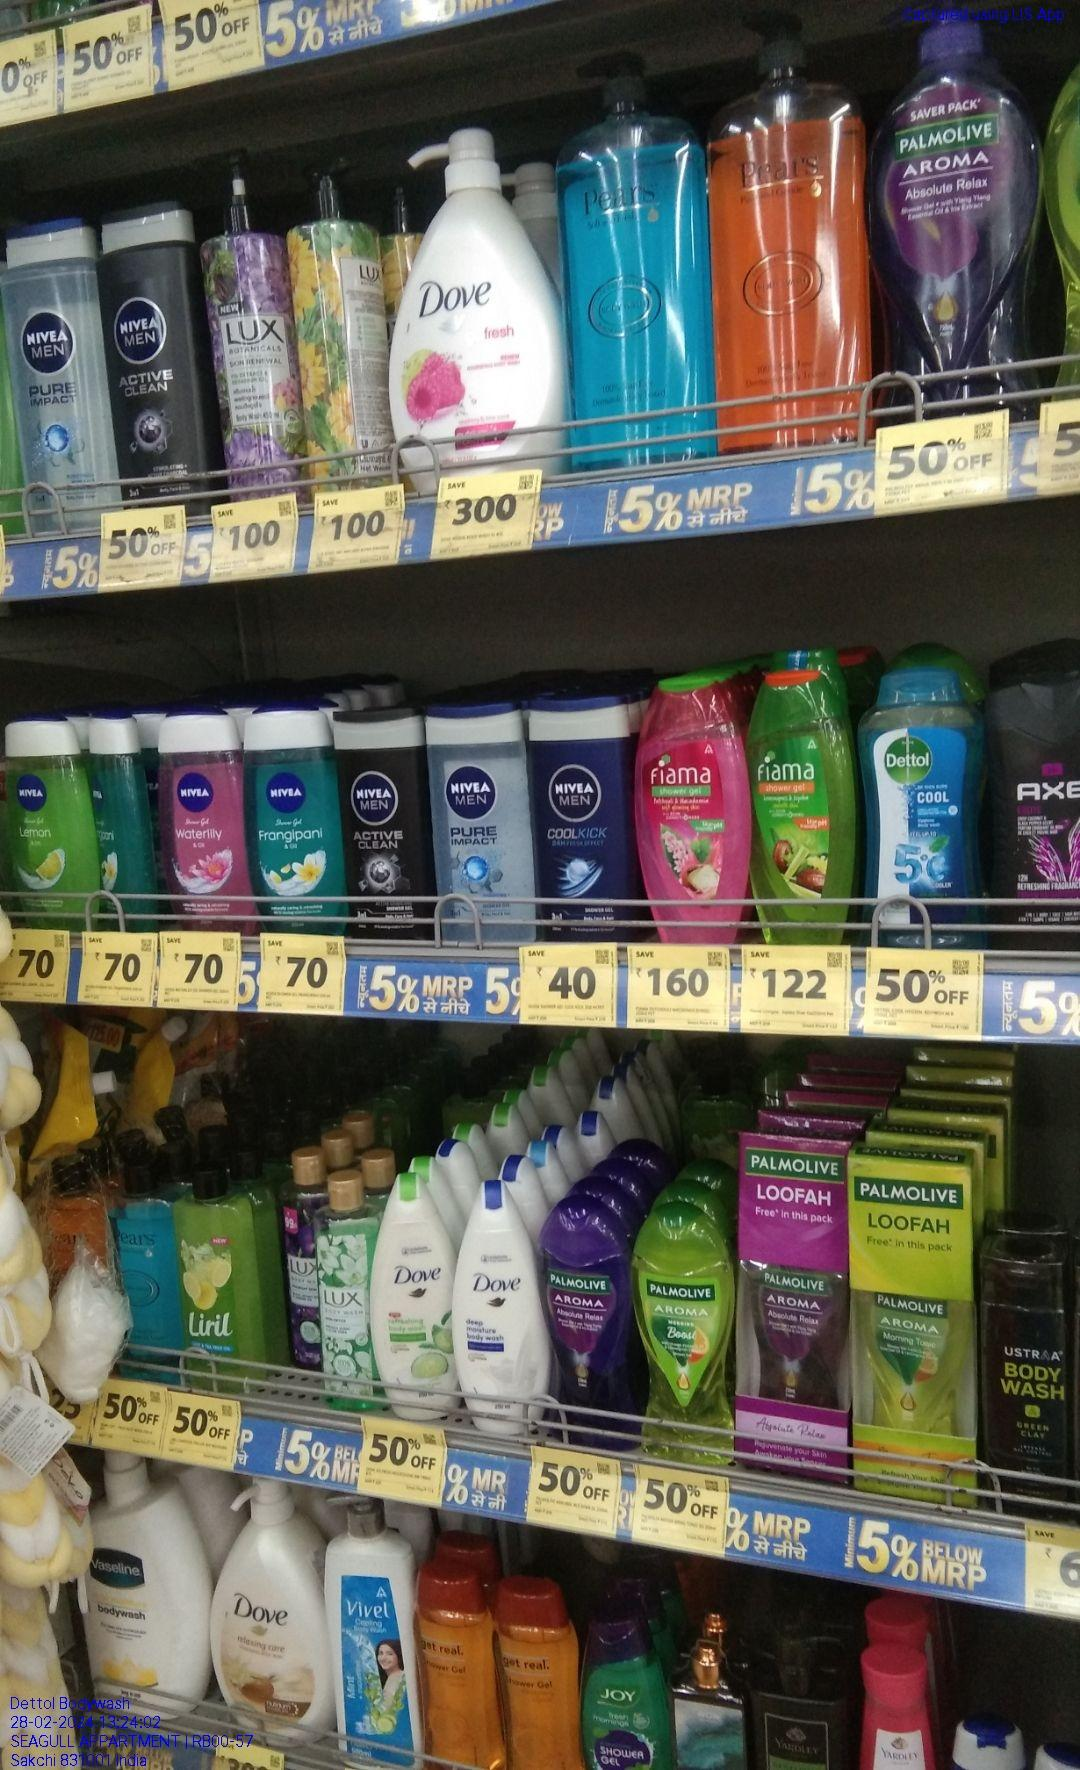Dettol_Bodywash_Cool: (864, 662, 976, 951)
Dove_Deep_Moisture_Body_Wash_250ML: (455, 1178, 534, 1445)
Dove_Refreshing_Body_Wash_250ML: (379, 1175, 451, 1424)
Fiama_Shower_Gel_Lemongrass_and_Jojoba_250ML: (751, 662, 846, 943)
Fiama_Shower_Gel_Patchouli_and_Macadamia_250ML: (641, 676, 744, 947)
Get_Real_Shower_Gel_Moisturising_Glycerin_300ML: (415, 1554, 493, 1770), (497, 1585, 575, 1770)
Joy_Shower_Gel_Mint_and_Eucalyptus_250ML: (579, 1607, 663, 1770)
Liril_Lime_and_Tea_Tree_Oil_Body_Wash_250ML: (181, 1161, 245, 1397)
Lux_Black_Orchid_Scent_and_Juniper_Oil_Body_Wash_245ML: (279, 1149, 316, 1373)
Lux_Body_Wash_Skin_Detox_Freesia_Scent_and_Alove_Vera_245ML: (319, 1176, 373, 1415)
Nivea_Shower_Gel_Frangipani_and_Oil_250ML: (248, 702, 341, 932)
Nivea_Shower_Gel_Lemon_and_Oil_250ML: (4, 713, 95, 936)
Nivea_Shower_Gel_Waterlily_and_Oil_250ML: (158, 711, 245, 932)
Palmolive_Aroma_Morning_Tonic_Shower_Gel_250ML: (636, 1218, 736, 1468)
Palmolive_Aroma_Relax_250ML: (537, 1200, 631, 1456)
Pears_Pure_Glycerin_and_Mint_Extracts_Body_Wash_250ML: (114, 1161, 177, 1383)
